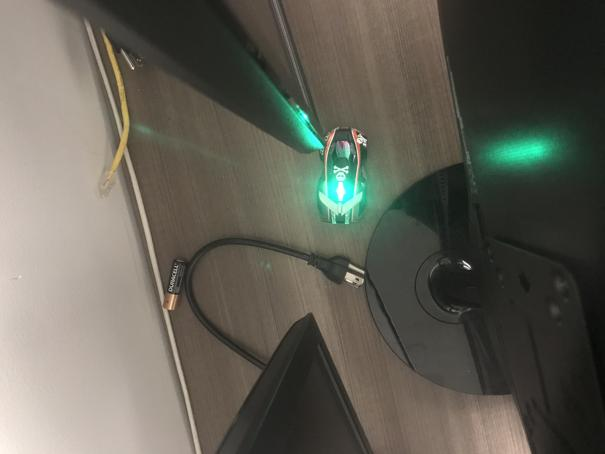Skull: (316, 126, 369, 224)
